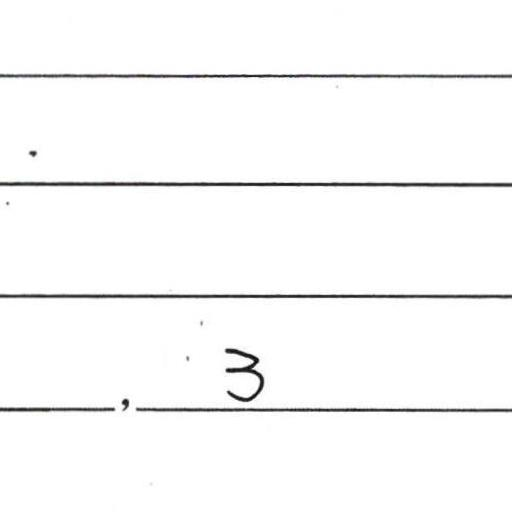ans: (218, 344, 269, 407)
